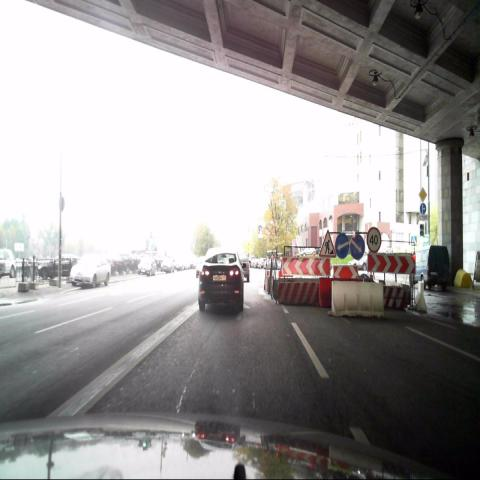4_2_2: (335, 230, 349, 259)
